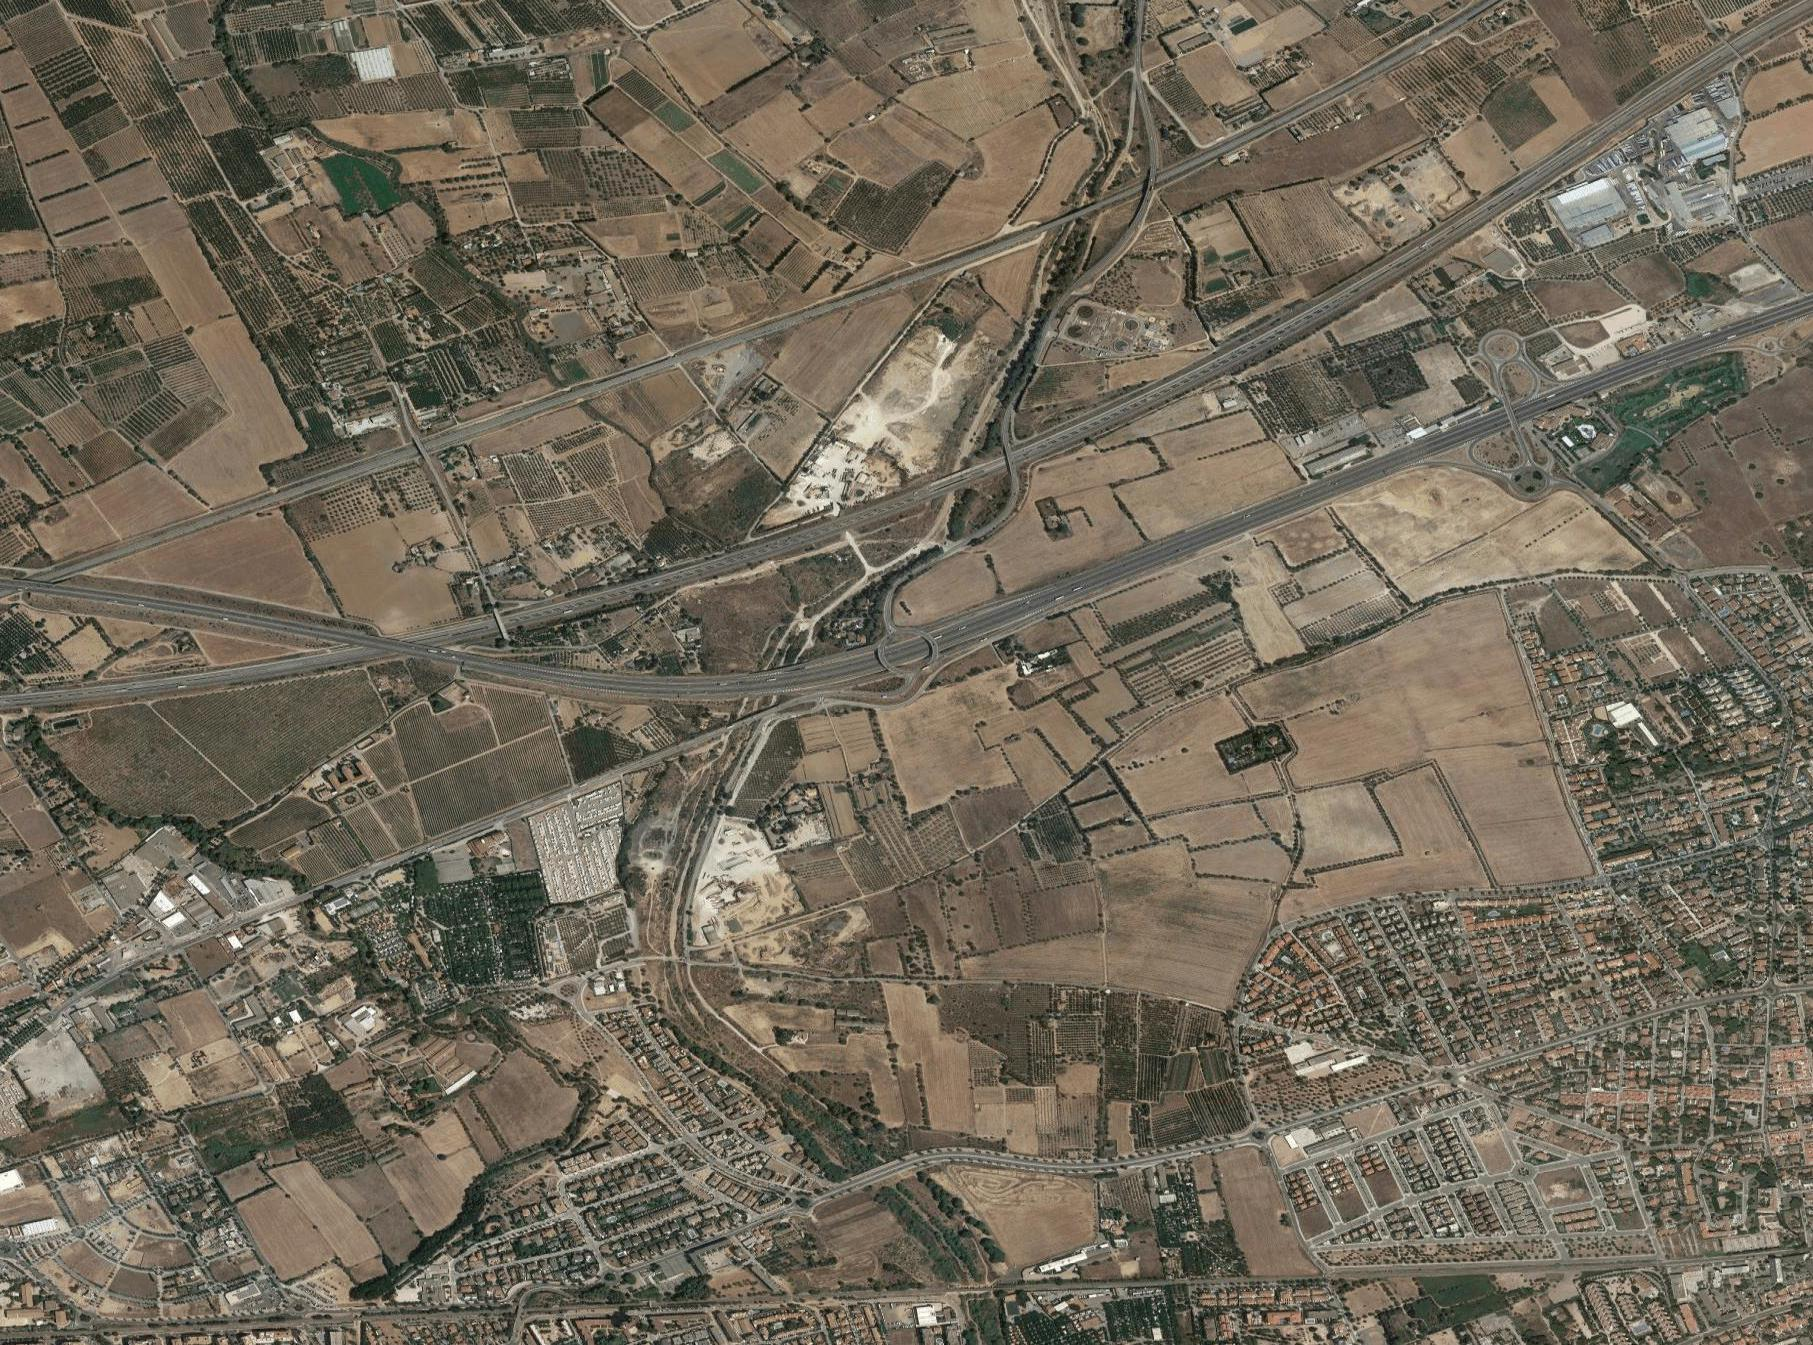motorway: (892, 492, 1275, 675), (1106, 240, 1422, 455), (1420, 40, 1734, 254), (1279, 333, 1622, 527), (773, 401, 1104, 582), (423, 534, 772, 660), (439, 639, 904, 728), (7, 641, 350, 742), (1621, 291, 1813, 386), (192, 583, 374, 658), (3, 555, 185, 629)
